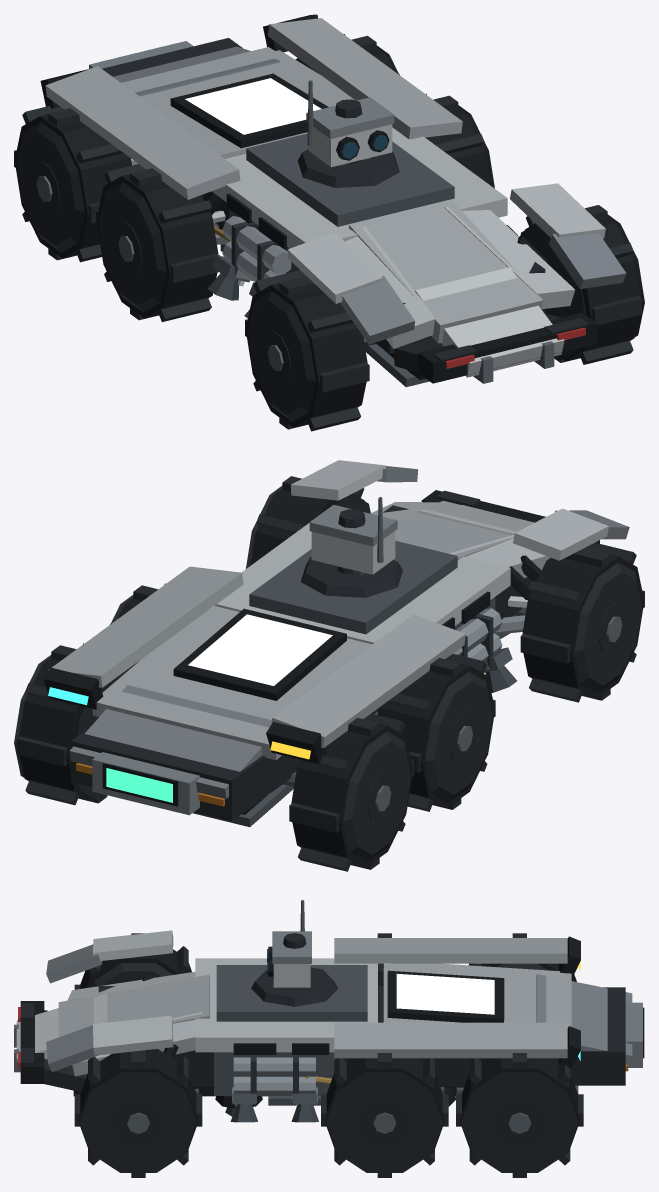
The model's file is rover.glb.
3 renders of one model, top to bottom at view 1: azimuth 30°, elevation 25°; view 2: azimuth 150°, elevation 25°; view 3: azimuth 270°, elevation 25°, orthographic. The views are drawn at different scales.
Visible parts, largest first — view 1: CHASSIS_ARMOR_BODY, WHEEL_FL, WHEEL_ML, WHEEL_RL, WHEEL_FR, SENSOR_MAST_HEAD, DISPLAY_FDAI_TELEMETRY_PANEL, WHEEL_MR, THRUSTER_L_RL, WHEEL_RR; view 2: CHASSIS_ARMOR_BODY, WHEEL_FL, WHEEL_RL, WHEEL_ML, WHEEL_RR, DISPLAY_FDAI_TELEMETRY_PANEL, SENSOR_MAST_HEAD, WHEEL_FR, SUSP_ARM_FL, DISPLAY_GAS_RESERVE_REAR, THRUSTER_L_FL; view 3: CHASSIS_ARMOR_BODY, WHEEL_FR, WHEEL_MR, WHEEL_RR, DISPLAY_FDAI_TELEMETRY_PANEL, WHEEL_FL, SENSOR_MAST_HEAD, THRUSTER_L_RR, THRUSTER_L_FR, WHEEL_RL.
Part boxes in pixels (x1,y1,x2,y2): CHASSIS_ARMOR_BODY: (40,14,626,387); WHEEL_FL: (245,270,369,431); WHEEL_ML: (96,164,219,321); WHEEL_RL: (14,106,131,262); WHEEL_FR: (520,205,644,364); SENSOR_MAST_HEAD: (306,80,394,167); DISPLAY_FDAI_TELEMETRY_PANEL: (185,78,321,134); WHEEL_MR: (425,93,494,188); THRUSTER_L_RL: (207,255,252,300); WHEEL_RR: (295,34,399,74); CHASSIS_ARMOR_BODY: (43,460,629,827); WHEEL_FL: (520,542,644,702); WHEEL_RL: (289,713,413,871); WHEEL_ML: (377,653,495,811); WHEEL_RR: (14,643,130,805); DISPLAY_FDAI_TELEMETRY_PANEL: (188,614,332,685); SENSOR_MAST_HEAD: (309,497,397,575); WHEEL_FR: (246,476,370,568); SUSP_ARM_FL: (495,555,541,634); DISPLAY_GAS_RESERVE_REAR: (106,768,172,802); THRUSTER_L_FL: (484,647,516,692); CHASSIS_ARMOR_BODY: (14,930,644,1108); WHEEL_FR: (74,1049,202,1177); WHEEL_MR: (321,1053,448,1177); WHEEL_RR: (456,1053,583,1177); DISPLAY_FDAI_TELEMETRY_PANEL: (396,974,494,1014); WHEEL_FL: (74,933,191,989); SENSOR_MAST_HEAD: (267,900,311,987); THRUSTER_L_RR: (291,1087,318,1122); THRUSTER_L_FR: (230,1087,257,1122); WHEEL_RL: (469,933,576,981).
Bounding box in the file's own units: 2.43 × 1.66 × 4.77.
